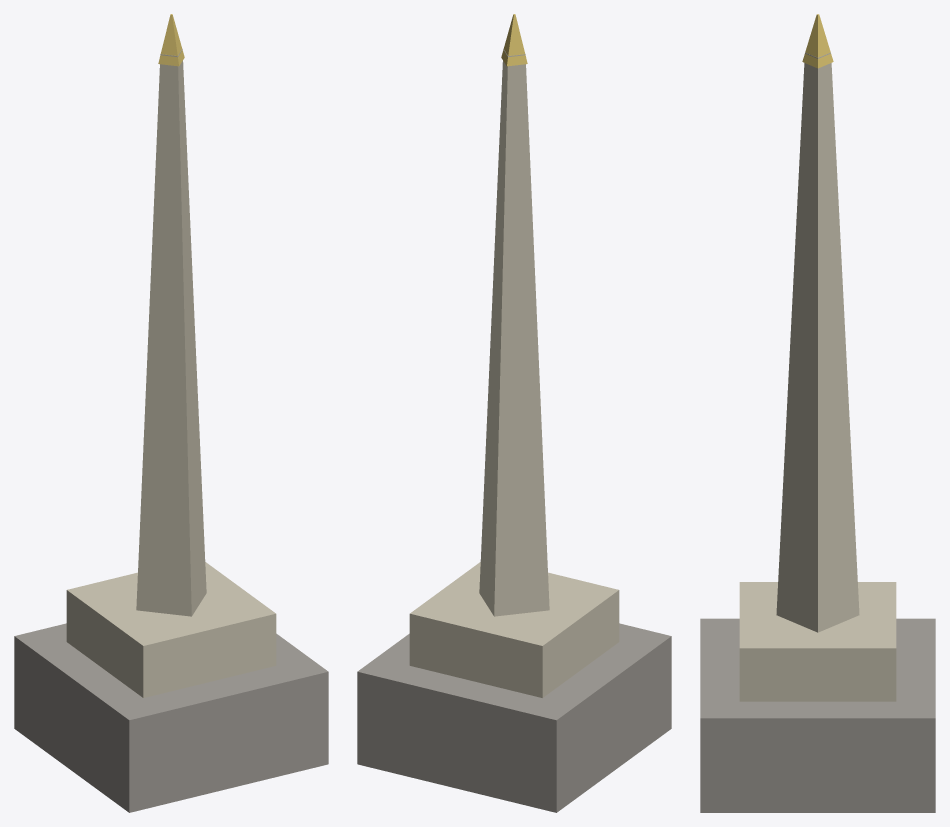
Rendered from connetable.glb.
3 renders of one model, left to right at view 1: azimuth 30°, elevation 25°; view 2: azimuth 150°, elevation 25°; view 3: azimuth 270°, elevation 25°, orthographic. The views are drawn at different scales.
Visible parts, largest first — view 1: base, shaft, pedestal, cap; view 2: base, shaft, pedestal, cap; view 3: base, shaft, pedestal, cap.
Part boxes in pixels (<box>): base: <box>14,623,328,812</box>; shaft: <box>136,49,206,616</box>; pedestal: <box>66,562,276,697</box>; cap: <box>158,14,184,66</box>; base: <box>357,623,671,812</box>; shaft: <box>479,49,549,616</box>; pedestal: <box>409,562,619,697</box>; cap: <box>501,14,527,66</box>; base: <box>700,618,935,812</box>; shaft: <box>776,52,859,632</box>; pedestal: <box>739,582,896,701</box>; cap: <box>802,14,833,68</box>.
Size of the model in its own units: 9 by 31.6 by 9.
